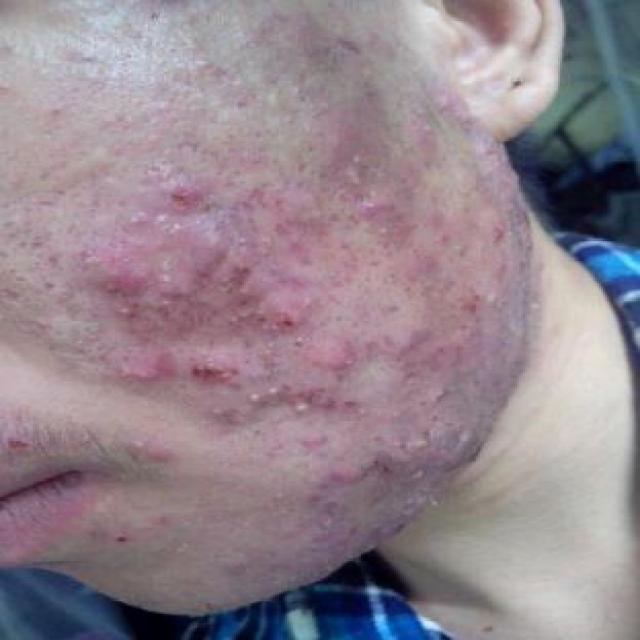papules: (111, 338, 201, 404), (137, 163, 232, 217), (310, 329, 377, 374)
pustules: (283, 389, 324, 422), (234, 378, 267, 411), (252, 375, 290, 403)
